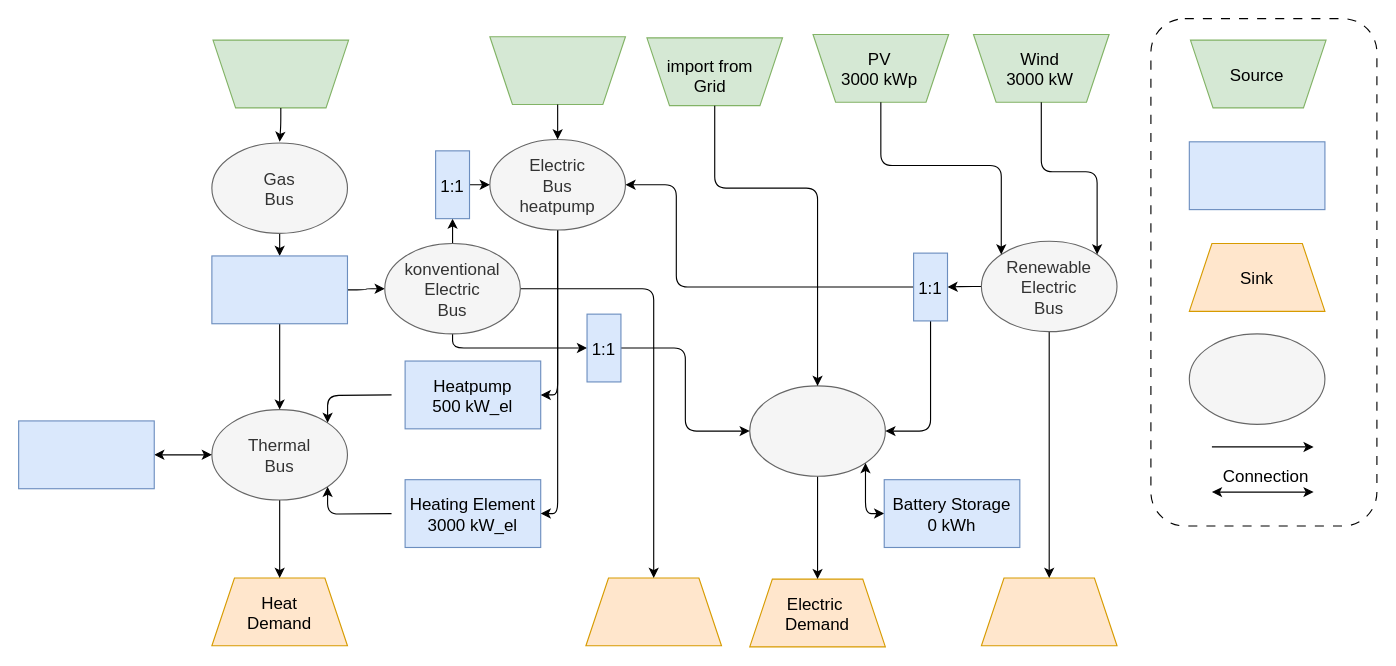
Some shapes in this 1396 by 666 pixel diagram are drawn without their labels. Here are the shapes that lost their labels. From the top down, the centre of each, then its label:
the point at 280,73: Gas
the point at 557,70: import from Grid heatpump
the point at 1256,175: Converter
the point at 279,289: CHP 200 kW_el
the point at 1256,378: Bus
the point at 817,430: Electric Bus
the point at 86,454: Seasonal Storage 40 MWh
the point at 653,611: export to Grid CHP
the point at 1048,611: export to Grid
